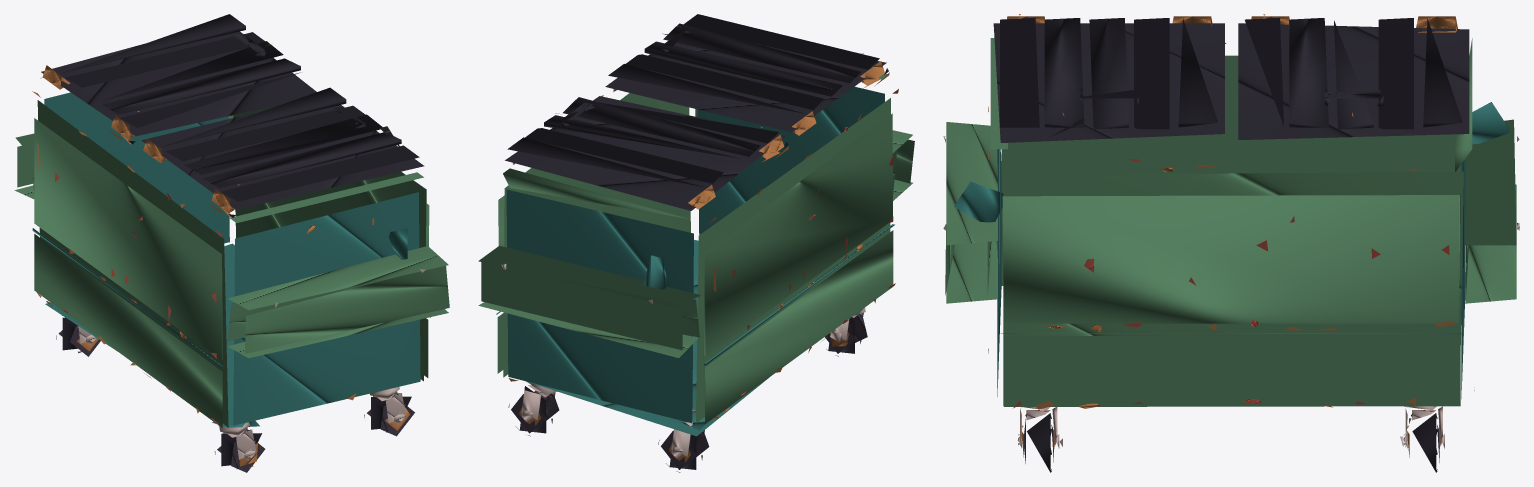
The picture shows the model from 3 angles, left to right: view 1: azimuth 30°, elevation 25°; view 2: azimuth 150°, elevation 25°; view 3: azimuth 270°, elevation 25°; orthographic projection. The views are drawn at different scales.
Parts seen in each view (by area): view 1: body, lidL, lidR, object 1, wheelRL, wheelFL, wheelRR; view 2: body, lidL, lidR, object 1, wheelFR, wheelRR, wheelRL; view 3: body, lidL, lidR, wheelFL, wheelFR, object 1.
Boxes of the visible parts, x1,y1,x2,y2 form: body: (14,77,449,427); lidL: (141,87,424,217); lidR: (41,14,316,144); object 1: (62,315,406,459); wheelRL: (214,429,265,472); wheelFL: (364,393,414,436); wheelRR: (56,317,100,356); body: (478,73,914,436); lidL: (605,14,889,135); lidR: (505,96,788,210); object 1: (521,307,865,456); wheelFR: (508,386,559,436); wheelRR: (658,430,709,472); wheelRL: (825,314,867,356); body: (943,38,1519,409); lidL: (993,14,1224,142); lidR: (1238,14,1469,139); wheelFL: (1018,413,1059,472); wheelFR: (1403,413,1444,472); object 1: (1017,406,1442,447).
Bounding box in the file's own units: 1.37 × 1.87 × 2.63.
